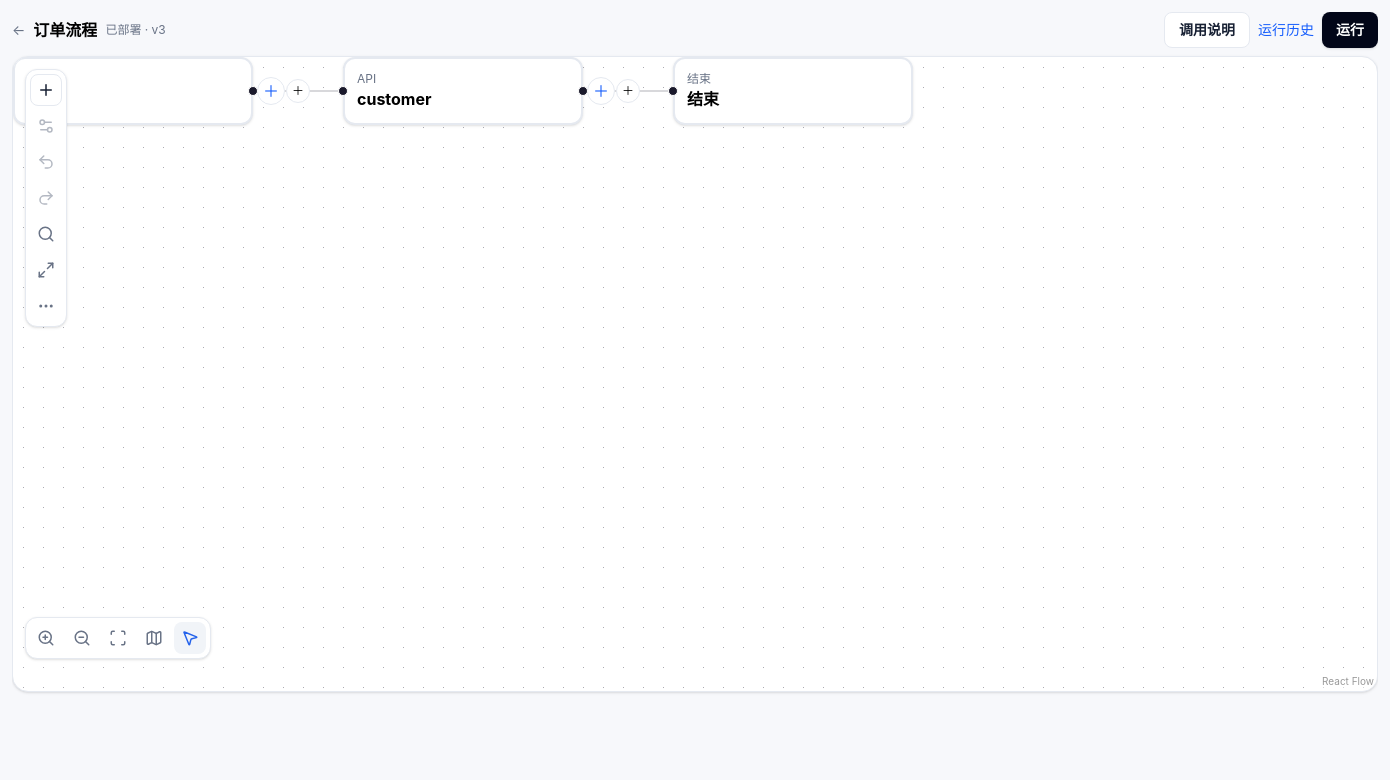
Test case: workflow editor › uses independent versions for layout saves and retains deployed status
This screenshot has width=1390, height=780.
Click the button with aria-label "配置工作流" at coordinates (65, 30), box x1=33 y1=18 x2=97 y2=42
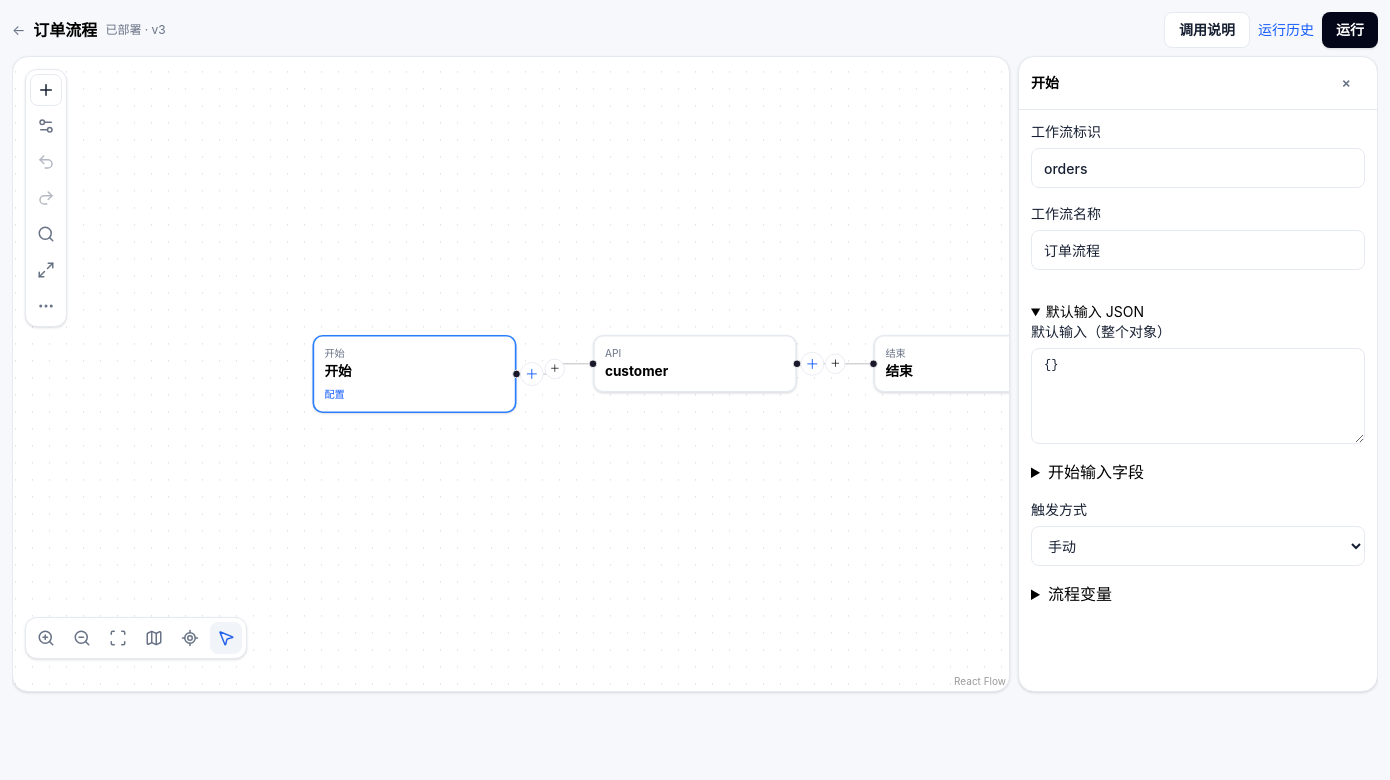
Now the field labelled "工作流名称" is shown, box x1=1031 y1=230 x2=1365 y2=270
Click the button named "更多" at coordinates (46, 306), box x1=30 y1=290 x2=62 y2=322
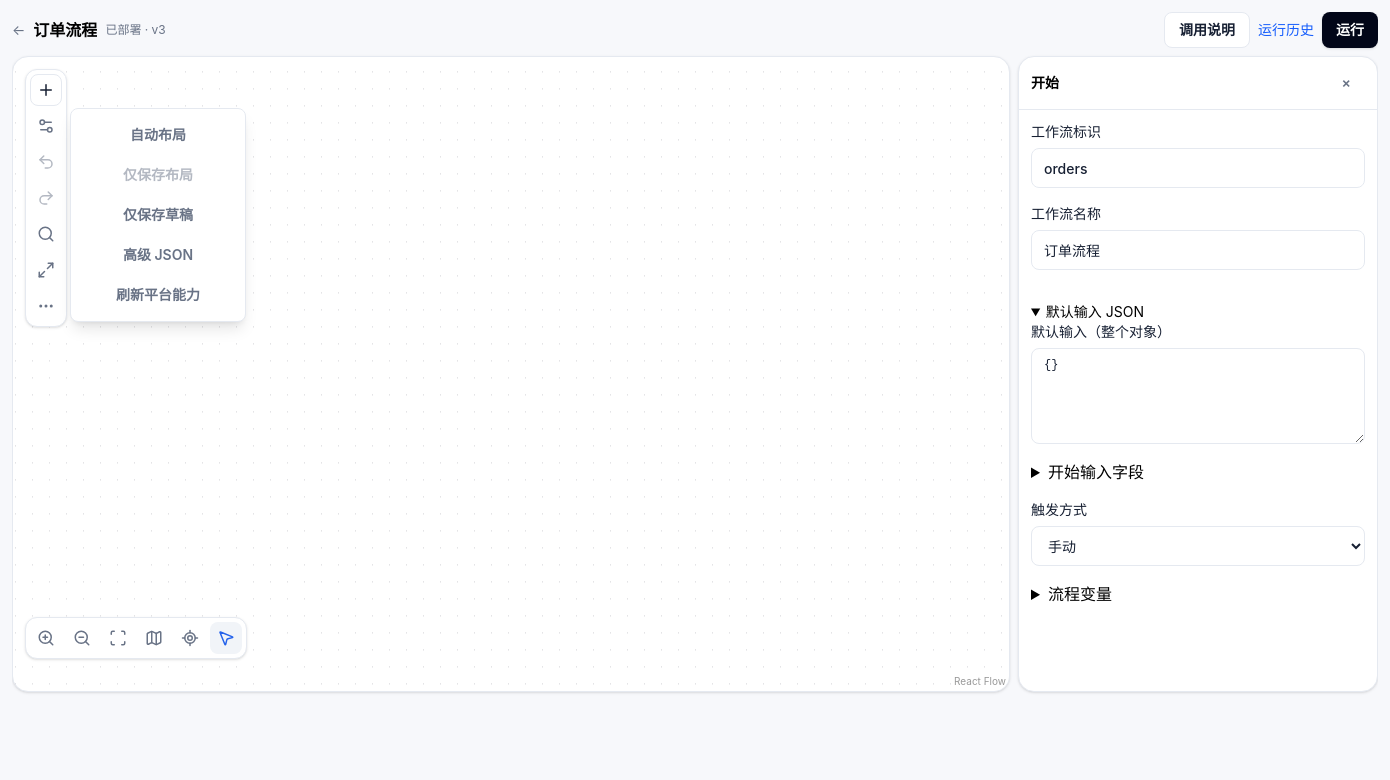
Click the button "自动布局" at coordinates (158, 135), box x1=79 y1=117 x2=237 y2=153
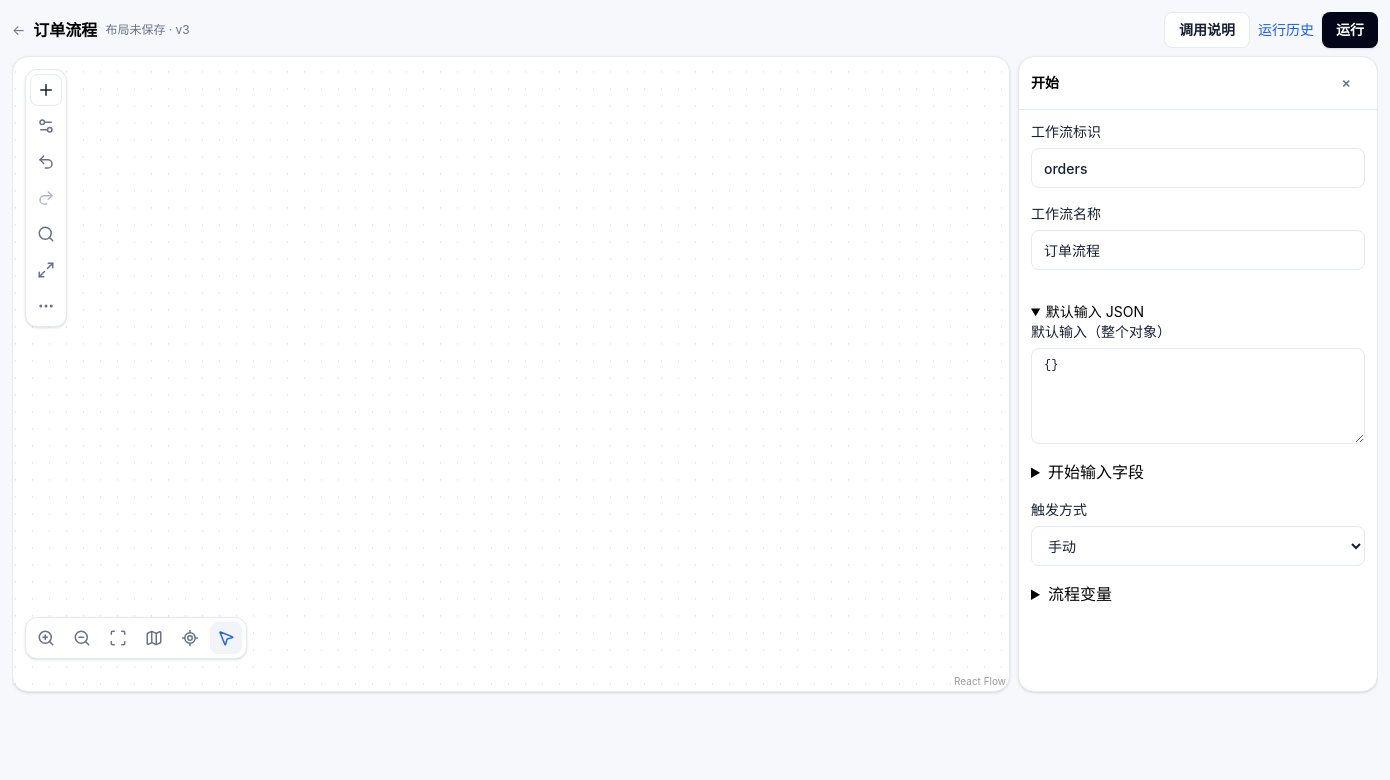
Click the button named "更多" at coordinates (46, 306), box x1=30 y1=290 x2=62 y2=322
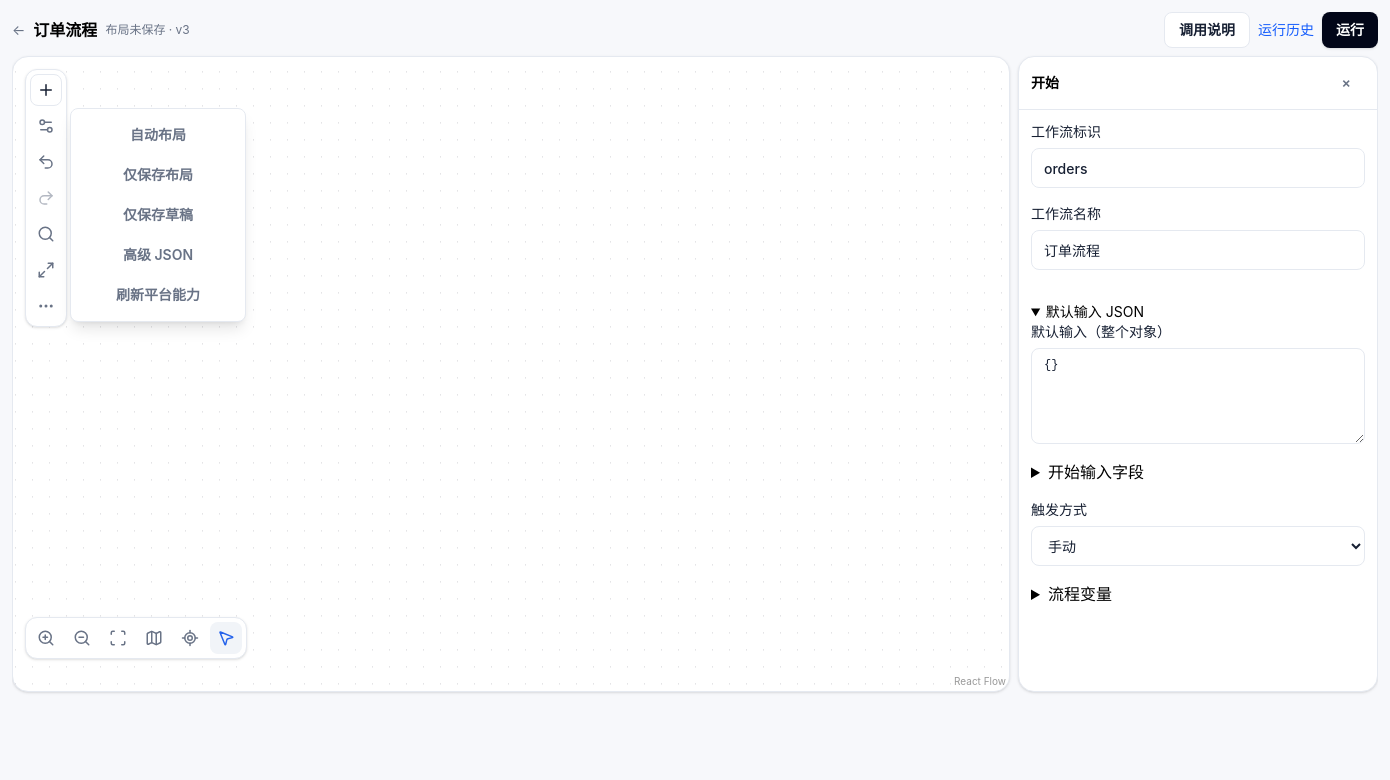
Click the button "仅保存布局" at coordinates (158, 175), box x1=79 y1=157 x2=237 y2=193
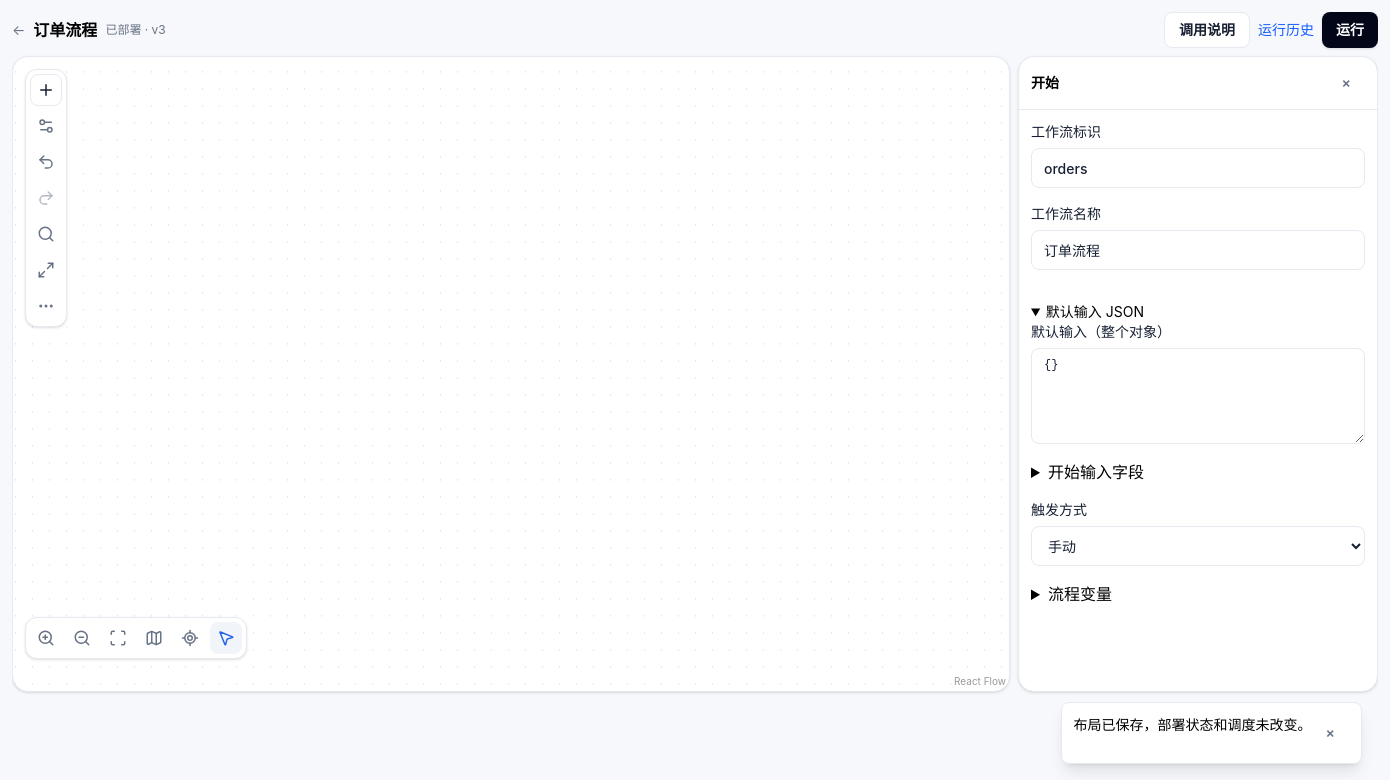
Now the text "× 布局已保存，部署状态和调度未改变。" is shown, box x1=1061 y1=702 x2=1362 y2=764
